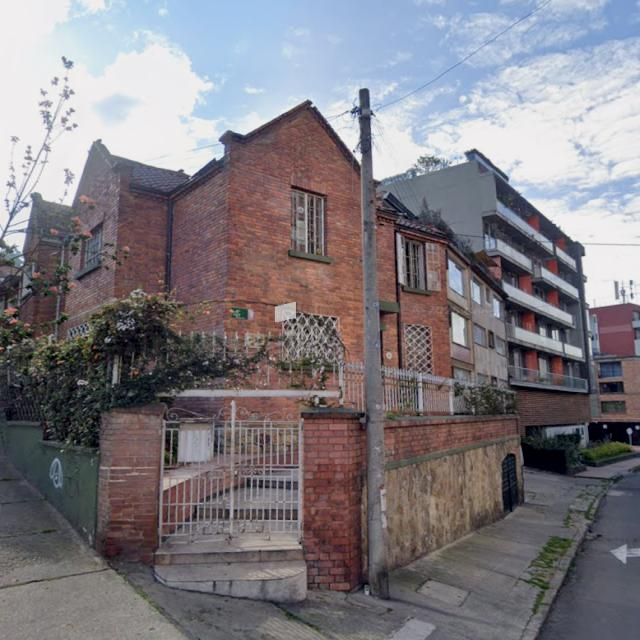fachada: (64, 102, 363, 364), (382, 150, 591, 432), (590, 304, 639, 443)
poste: (359, 89, 389, 598)
